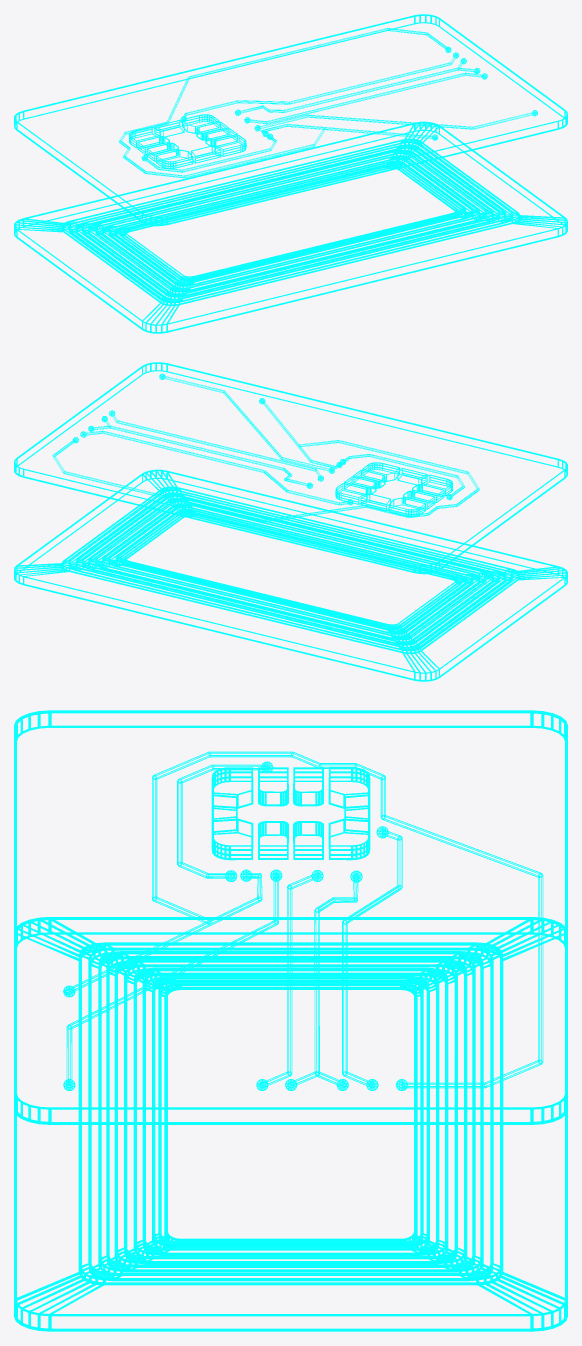
The model's file is Card.glb.
The picture shows the model from 3 angles, top to bottom: view 1: azimuth 30°, elevation 25°; view 2: azimuth 150°, elevation 25°; view 3: azimuth 270°, elevation 25°; orthographic projection. The views are drawn at different scales.
Visible parts, largest first — view 1: Plane.001, Plane.002, Plane, Cube.001, Icosphere; view 2: Plane.001, Plane.002, Plane, Cube.001, Icosphere; view 3: Plane.001, Plane.002, Plane, Cube.001, Icosphere.
Boxes of the visible parts, x1,y1,x2,y2 form: Plane.001: (14, 121, 567, 333); Plane.002: (118, 28, 535, 178); Plane: (14, 14, 567, 226); Cube.001: (129, 114, 246, 168); Icosphere: (141, 46, 537, 161); Plane.001: (14, 469, 567, 681); Plane.002: (52, 375, 479, 522); Plane: (14, 362, 567, 574); Cube.001: (335, 462, 452, 517); Icosphere: (72, 373, 452, 505); Plane.001: (14, 917, 567, 1331); Plane.002: (64, 751, 543, 1088); Plane: (14, 710, 567, 1124); Cube.001: (211, 767, 370, 860); Icosphere: (63, 761, 407, 1090).
Bounding box in the file's own units: 3.41 × 0.9197 × 2.01.
